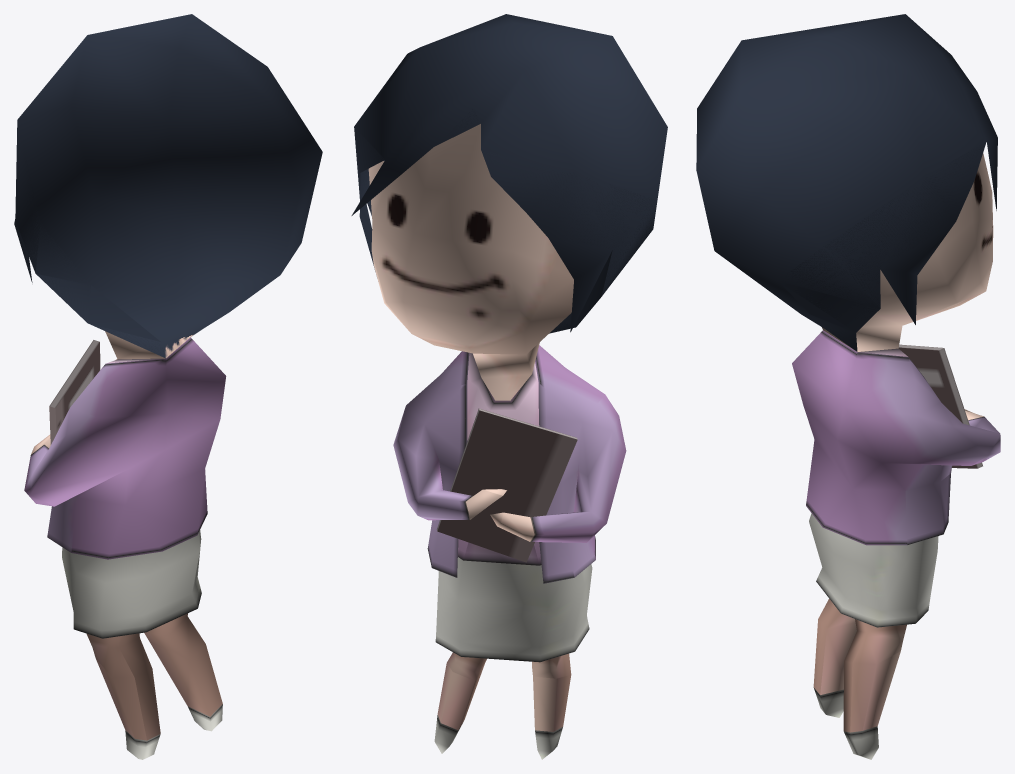
The model's file is g1.icn.obj.
3 views of the same model, side by side, from view 1: azimuth 30°, elevation 25°; view 2: azimuth 150°, elevation 25°; view 3: azimuth 270°, elevation 25° (orthographic). The views are drawn at different scales.
Size of the model in its own units: 1.56 by 3.95 by 1.55.
1 material, 1 textured.
